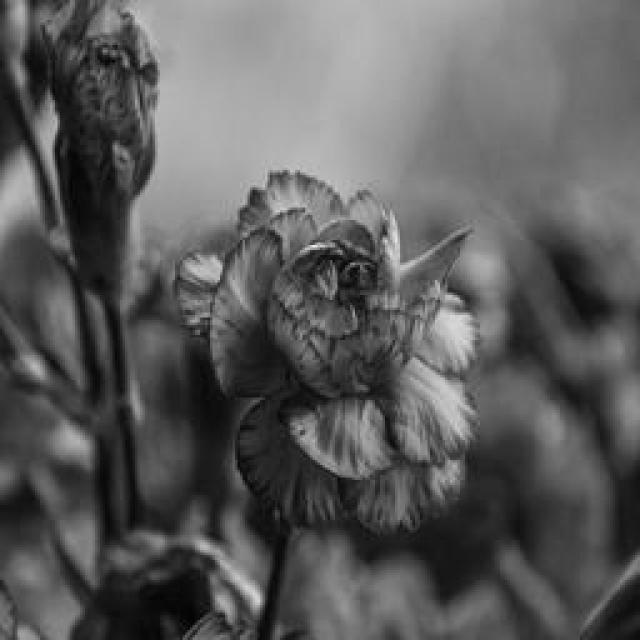carnation: (170, 152, 488, 560)
